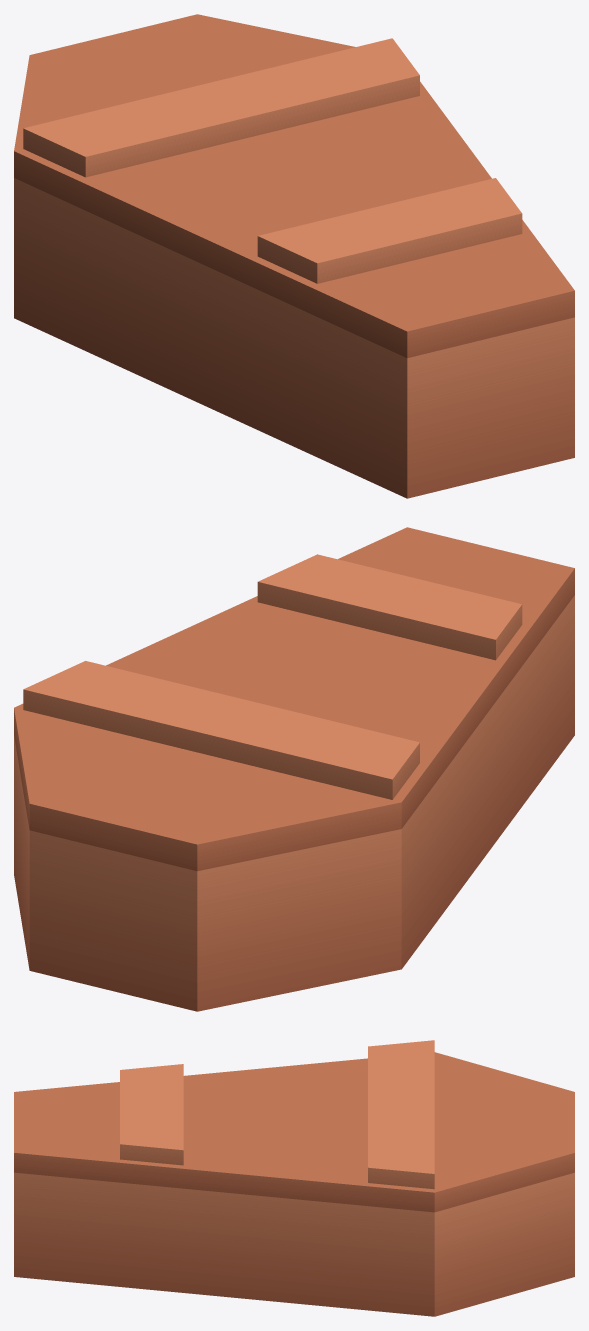
The model's file is coffin.glb.
The picture shows the model from 3 angles, top to bottom: view 1: azimuth 30°, elevation 25°; view 2: azimuth 150°, elevation 25°; view 3: azimuth 270°, elevation 25°; orthographic projection. The views are drawn at different scales.
Parts seen in each view (by area): view 1: Asset3DLoader.sceneRoot; view 2: Asset3DLoader.sceneRoot; view 3: Asset3DLoader.sceneRoot.
Part boxes in pixels (bbox=[...]): Asset3DLoader.sceneRoot: bbox=[14, 14, 574, 498]; Asset3DLoader.sceneRoot: bbox=[14, 527, 574, 1011]; Asset3DLoader.sceneRoot: bbox=[14, 1040, 574, 1316].
Size of the model in its own units: 0.5928 by 0.2742 by 1.
Materials: 1 (1 with a texture image).
